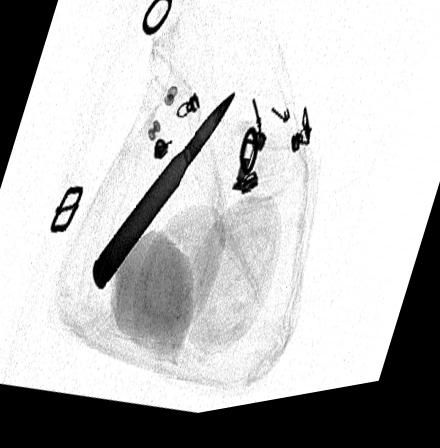Bullet: (90, 96, 239, 296)
